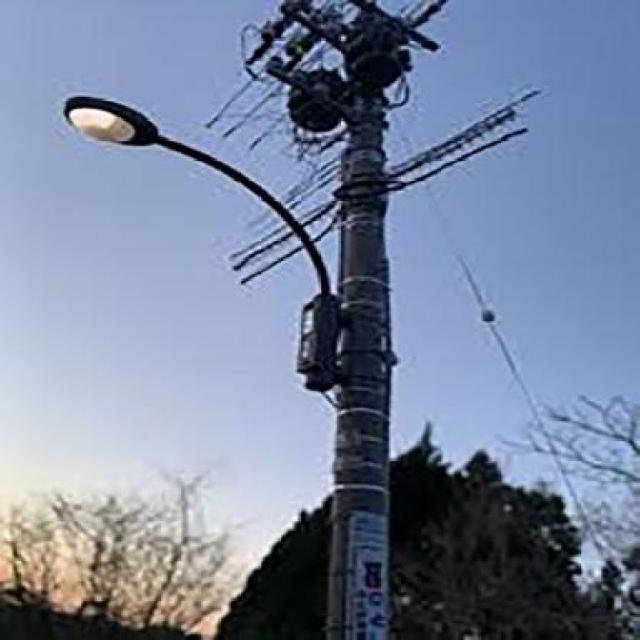pole: (223, 3, 492, 640)
